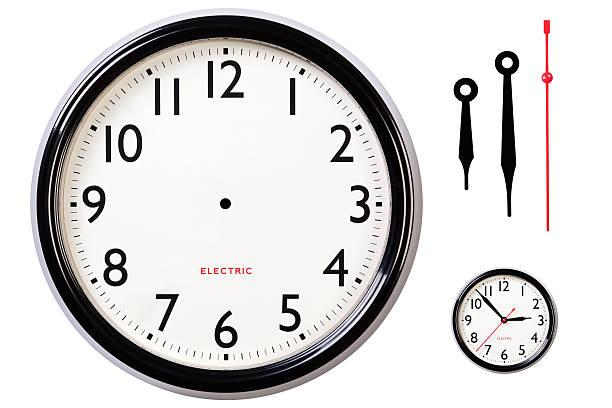clock: (27, 4, 434, 398), (443, 260, 564, 381)
